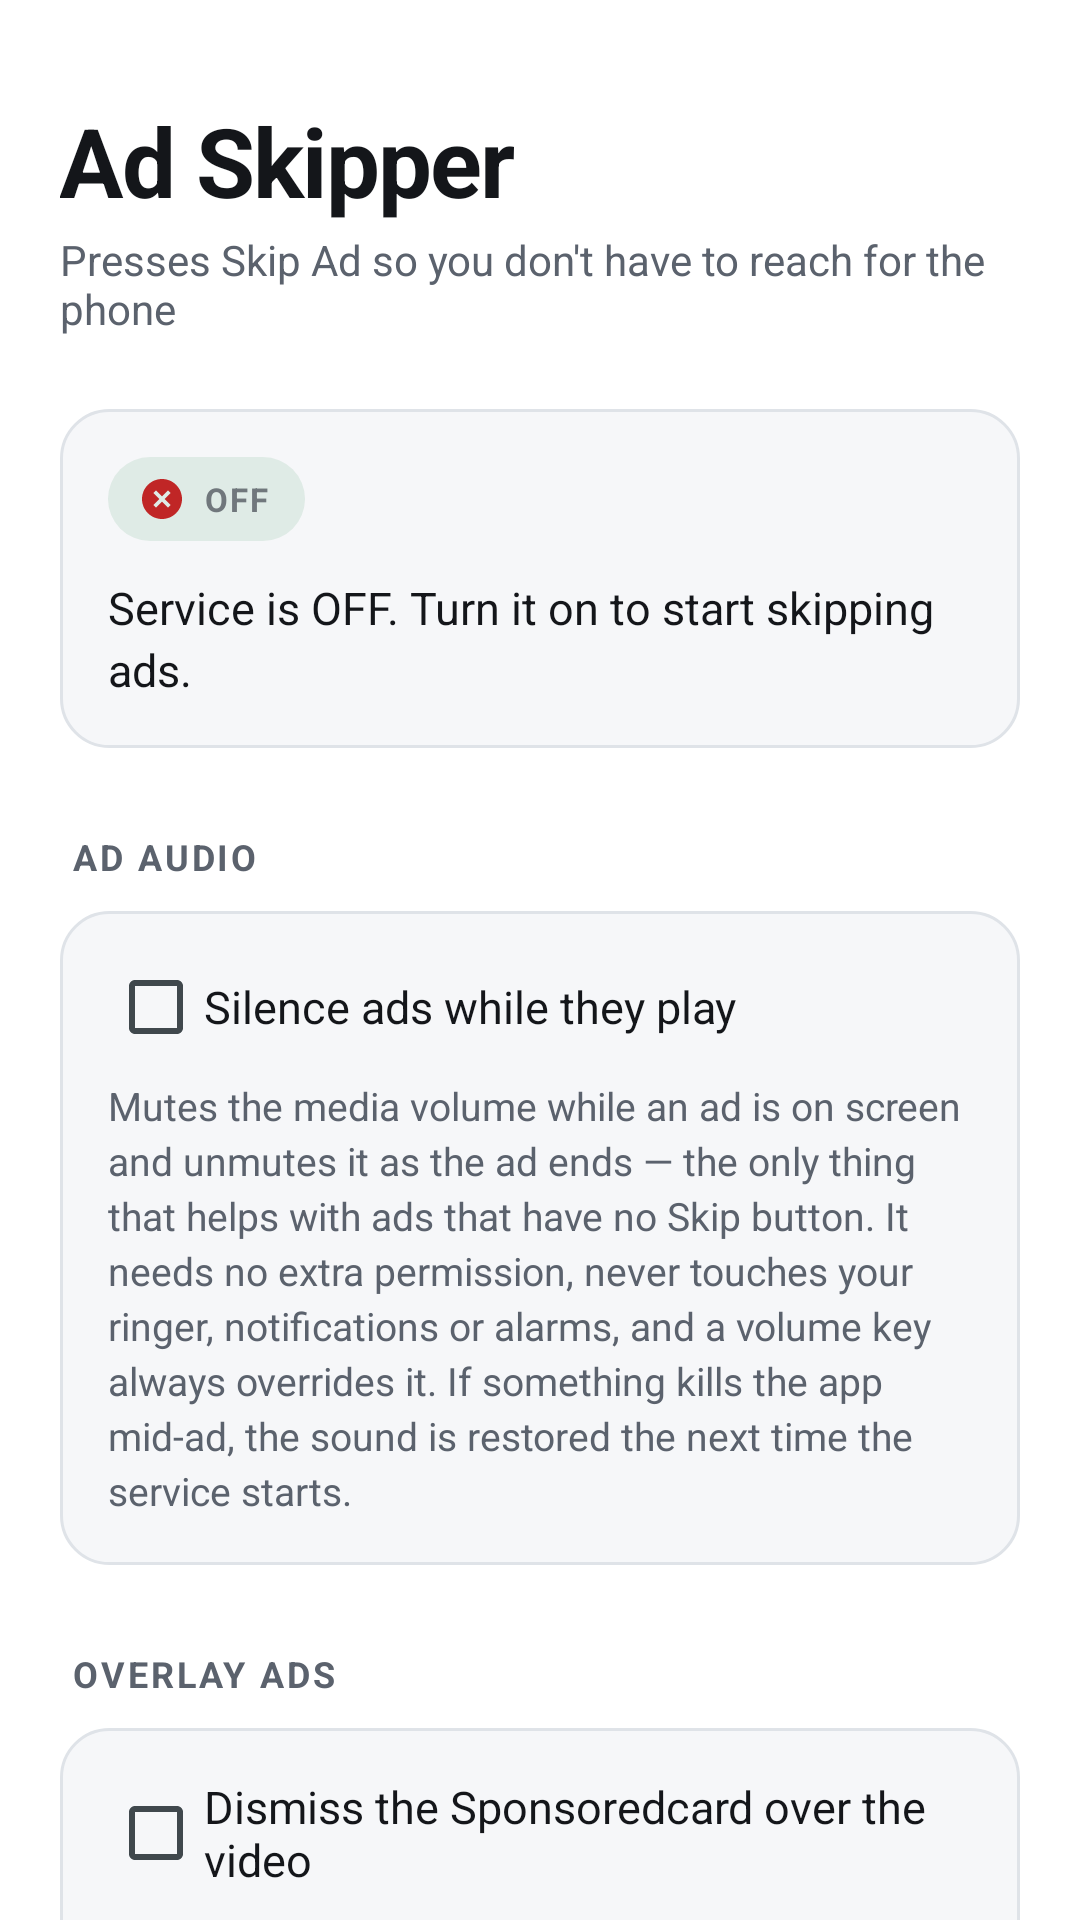

Icon bounding boxes for this 1080*1920 phone screenshot, format (x1, y1, x2, y2):
state bad: (142, 479, 182, 519)
